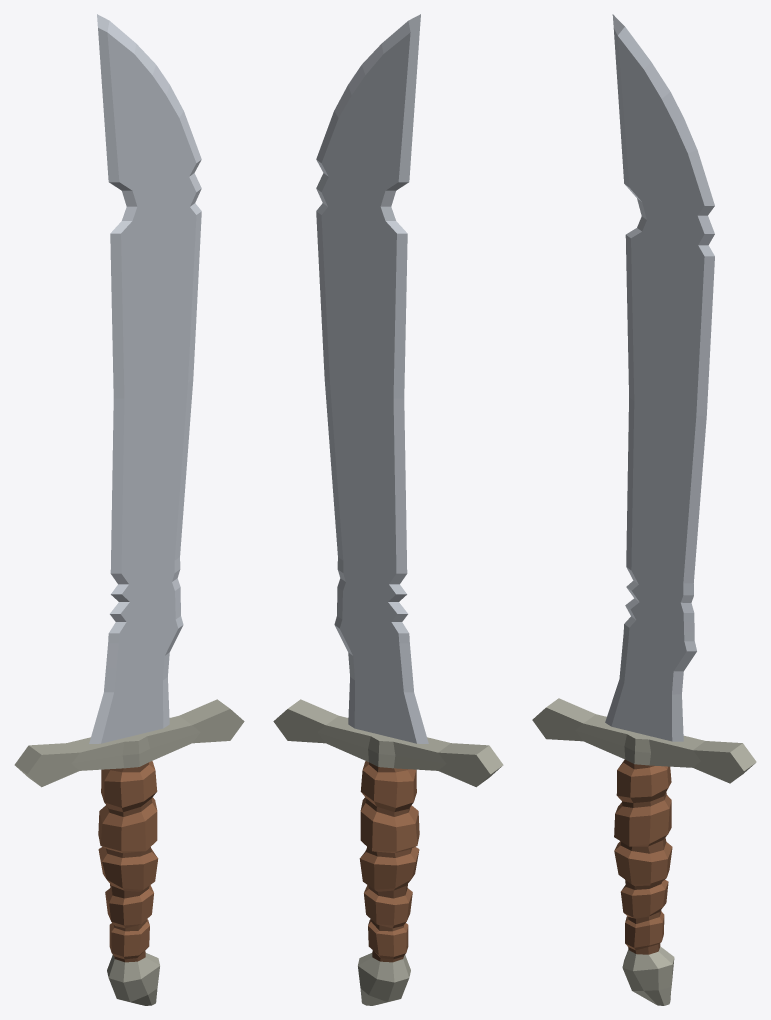
Rendered from Q_Sword_2-CkPtjXy-.glb.
3 views of the same model, side by side, from view 1: azimuth 30°, elevation 25°; view 2: azimuth 150°, elevation 25°; view 3: azimuth 330°, elevation 25° (orthographic). The views are drawn at different scales.
Visible parts, largest first — view 1: Sword_2; view 2: Sword_2; view 3: Sword_2.
Boxes of the visible parts, <box> form: Sword_2: <box>14,14,244,1005</box>; Sword_2: <box>273,14,503,1005</box>; Sword_2: <box>532,14,756,1005</box>.
Bounding box in the file's own units: 1.22 × 5.36 × 0.3104.
